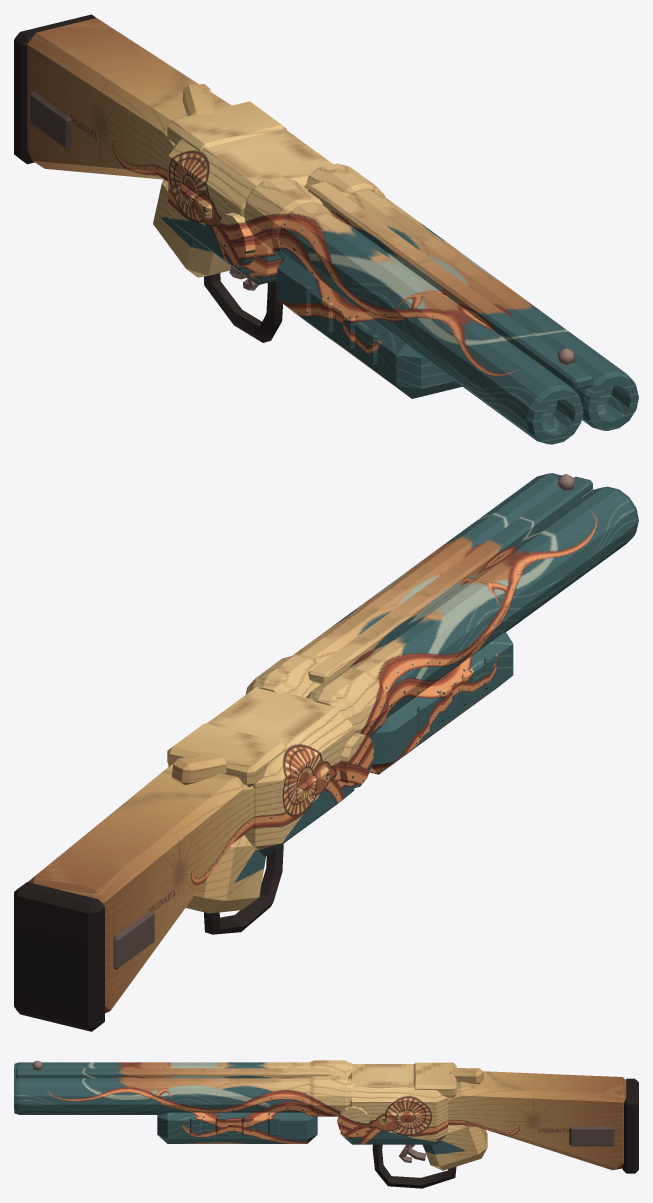
The model's file is Double_Argonaut.glb.
The picture shows the model from 3 angles, top to bottom: view 1: azimuth 30°, elevation 25°; view 2: azimuth 150°, elevation 25°; view 3: azimuth 270°, elevation 25°; orthographic projection. The views are drawn at different scales.
Parts seen in each view (by area): view 1: Main, Barrels, Foregrip; view 2: Main, Barrels, Foregrip; view 3: Main, Barrels, Foregrip.
Part boxes in pixels (<box>): Main: <box>14,14,332,342</box>; Barrels: <box>243,163,638,444</box>; Foregrip: <box>277,256,462,398</box>; Main: <box>14,687,373,1031</box>; Barrels: <box>245,473,638,736</box>; Foregrip: <box>369,632,513,774</box>; Main: <box>337,1062,638,1188</box>; Barrels: <box>14,1060,354,1116</box>; Foregrip: <box>157,1112,317,1143</box>.
Bounding box in the file's own units: 0.558 × 0.904 × 4.03.
Materials: 2 (1 with a texture image).
